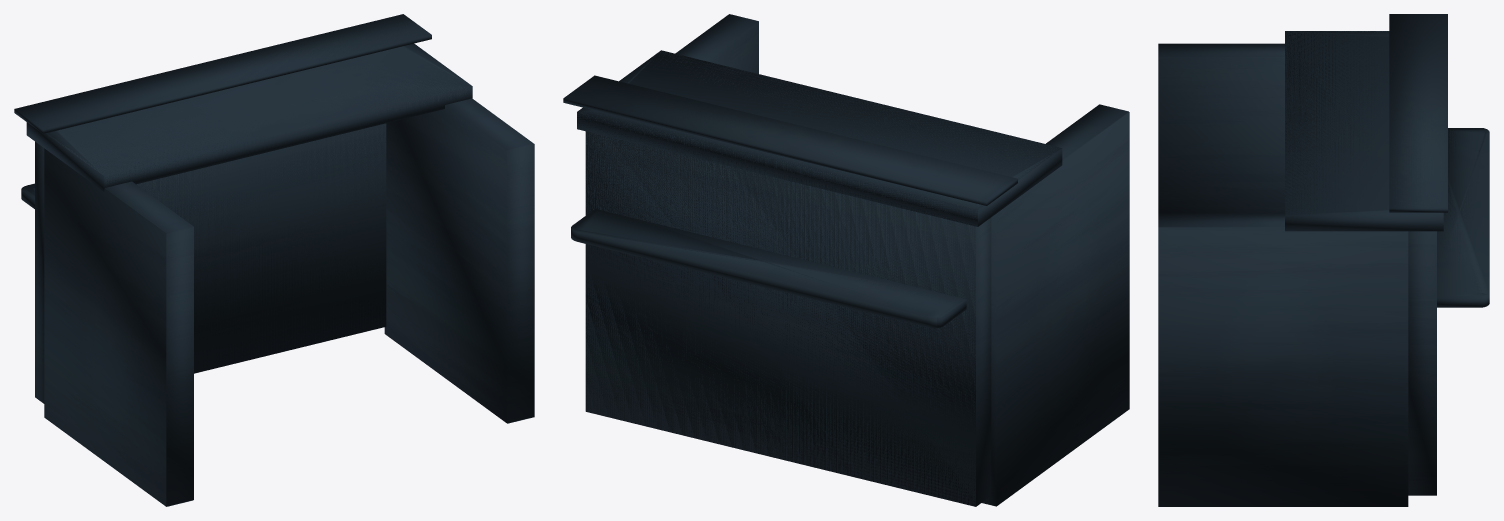
Rendered from service_desk.fbx.
The picture shows the model from 3 angles, left to right: view 1: azimuth 30°, elevation 25°; view 2: azimuth 150°, elevation 25°; view 3: azimuth 270°, elevation 25°; orthographic projection. The views are drawn at different scales.
Parts seen in each view (by area): view 1: Cube.006; view 2: Cube.006; view 3: Cube.006.
Part boxes in pixels (x1,y1,x2,y2): Cube.006: (14, 14, 534, 506); Cube.006: (563, 14, 1129, 506); Cube.006: (1158, 14, 1489, 506).
Bounding box in the file's own units: 616 × 449 × 444.
